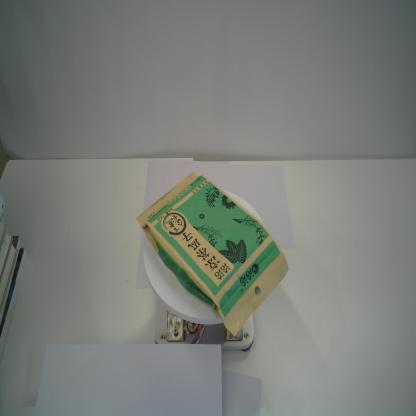Dried Food: (134, 170, 289, 337)
